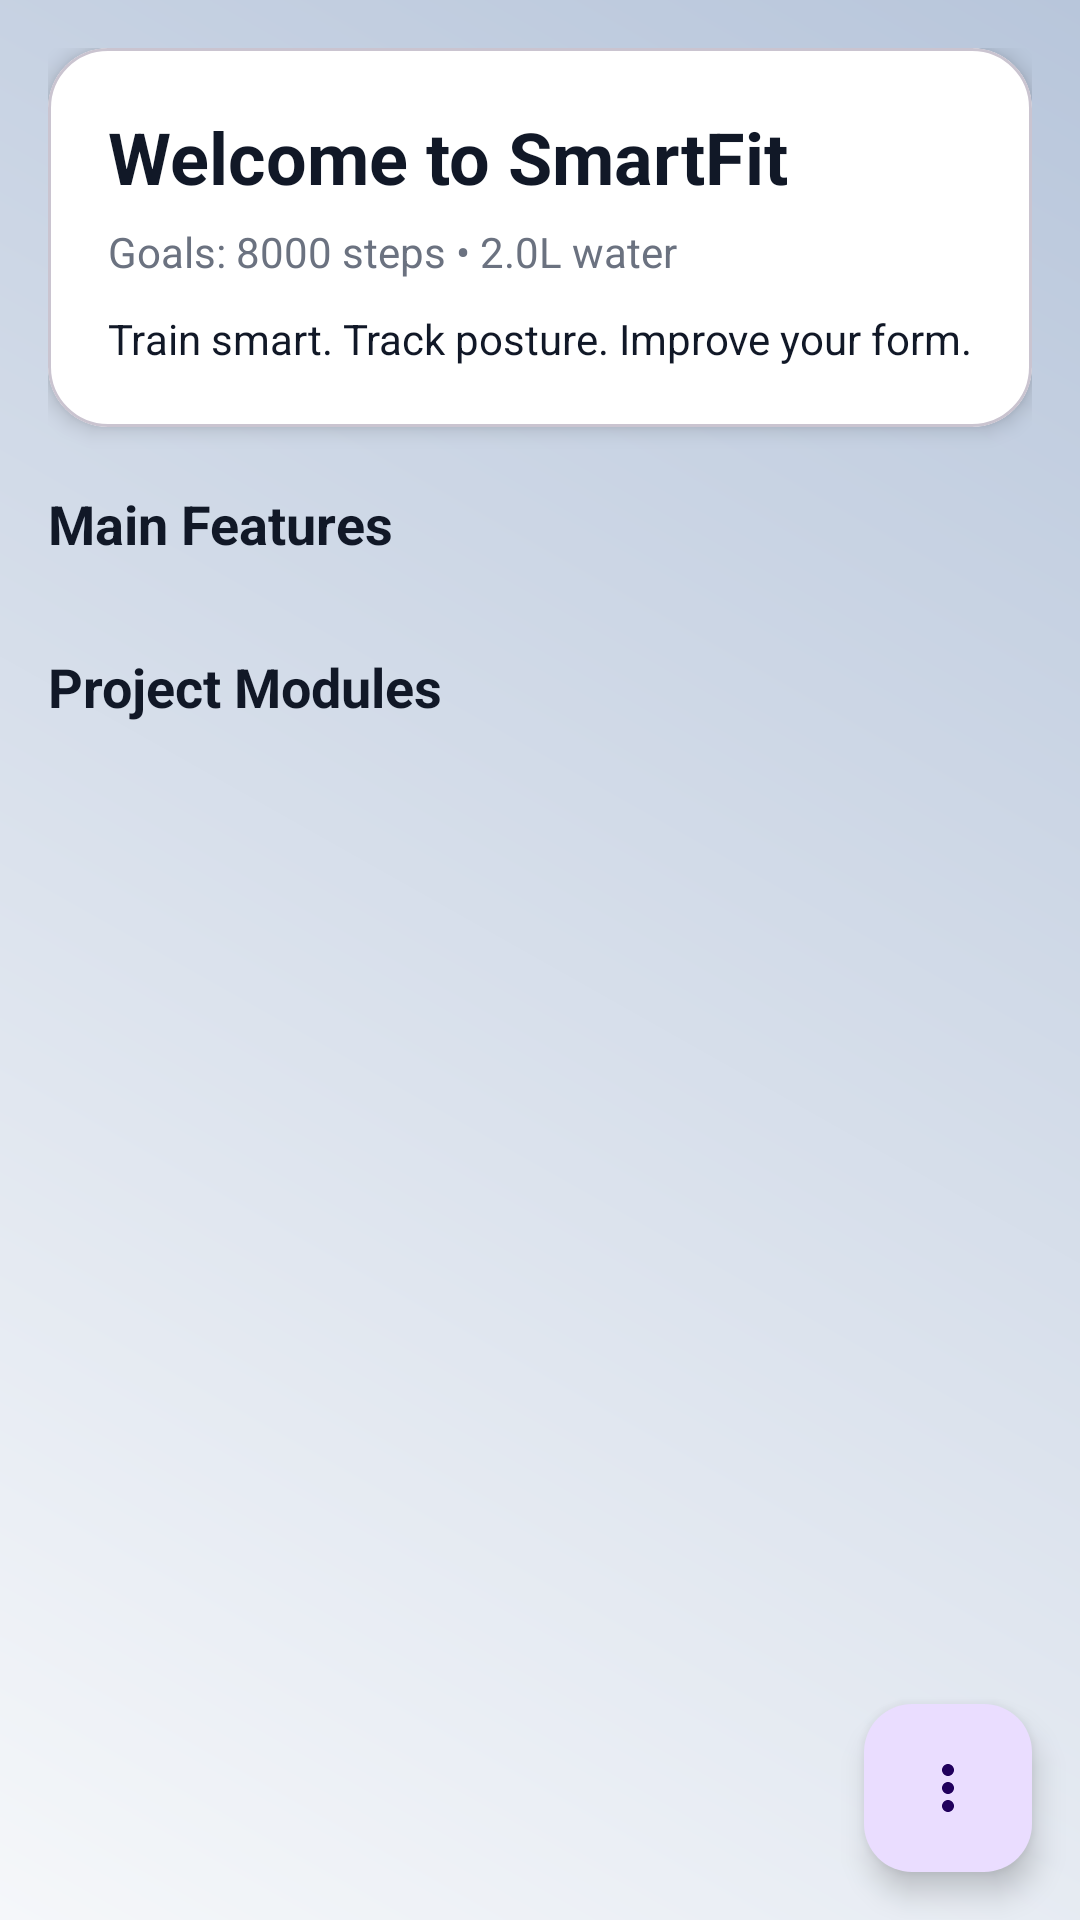

Icons on this 1080 × 1920 Android screen, each with its box as bbox(x1, y1, x2, y2):
more vert: bbox(942, 1764, 954, 1812)
